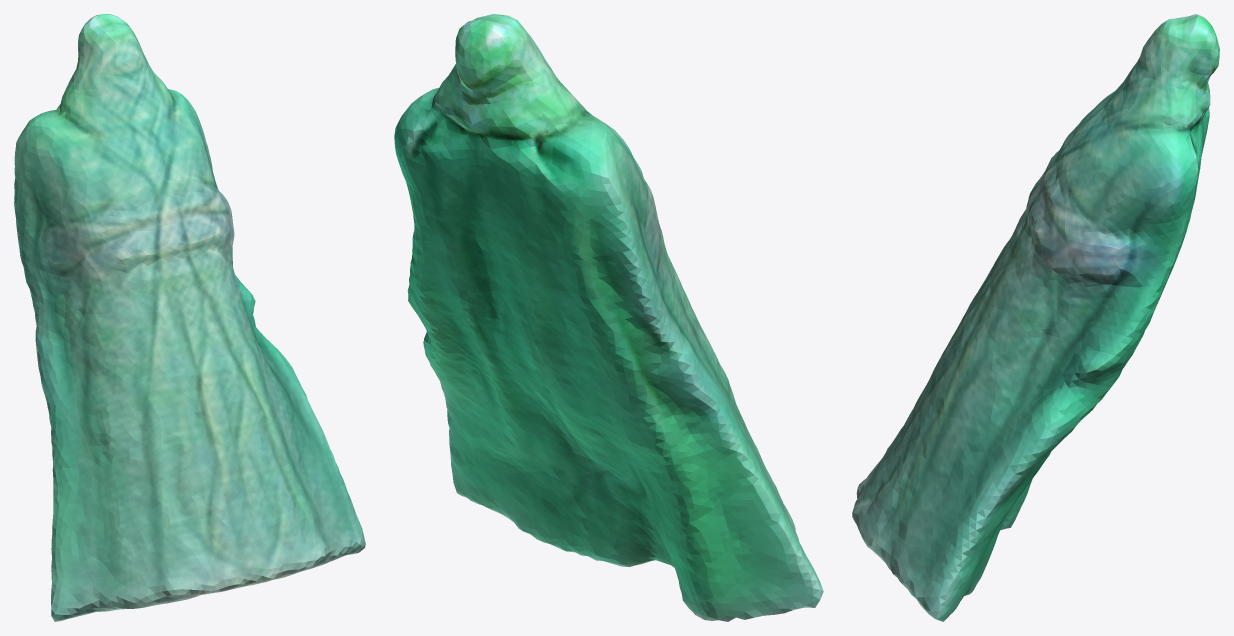
The picture shows the model from 3 angles, left to right: view 1: azimuth 30°, elevation 25°; view 2: azimuth 150°, elevation 25°; view 3: azimuth 270°, elevation 25°; orthographic projection. The views are drawn at different scales.
Parts seen in each view (by area): view 1: world; view 2: world; view 3: world.
Part boxes in pixels (x1,y1,x2,y2): world: (14, 14, 365, 621); world: (394, 14, 823, 621); world: (852, 14, 1219, 621).
Size of the model in its own units: 0.5677 by 0.9204 by 0.5539.
Materials: 1 (1 with a texture image).
